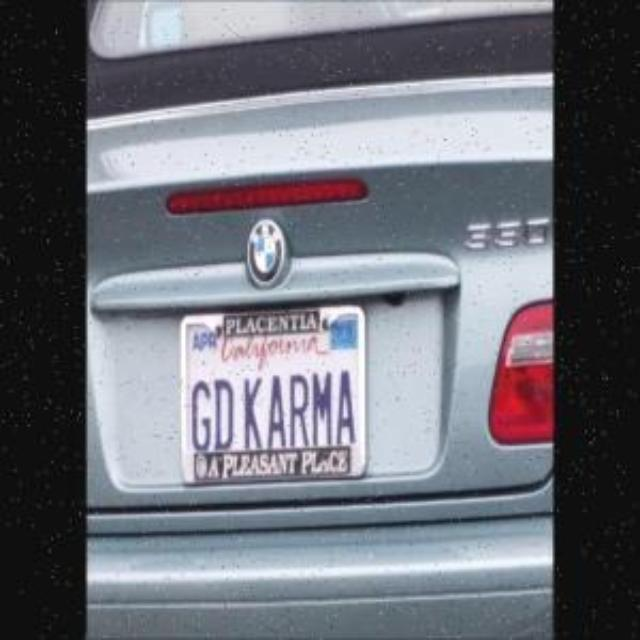License Plate: (178, 290, 376, 502)
